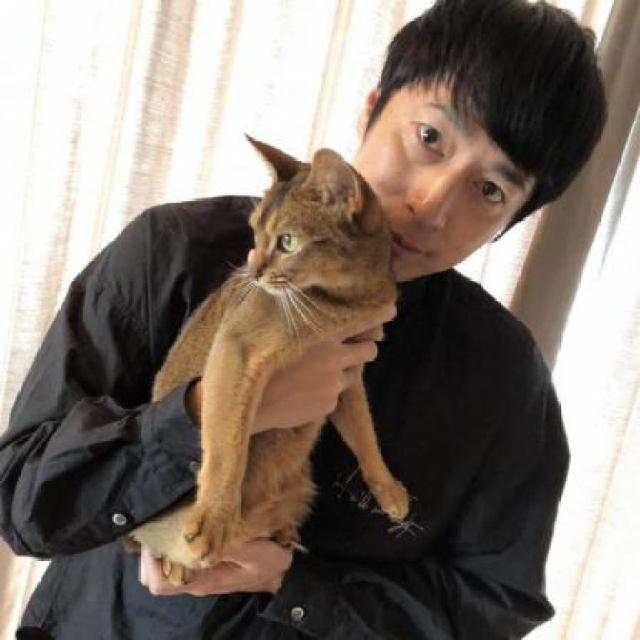cat: (133, 132, 412, 583)
